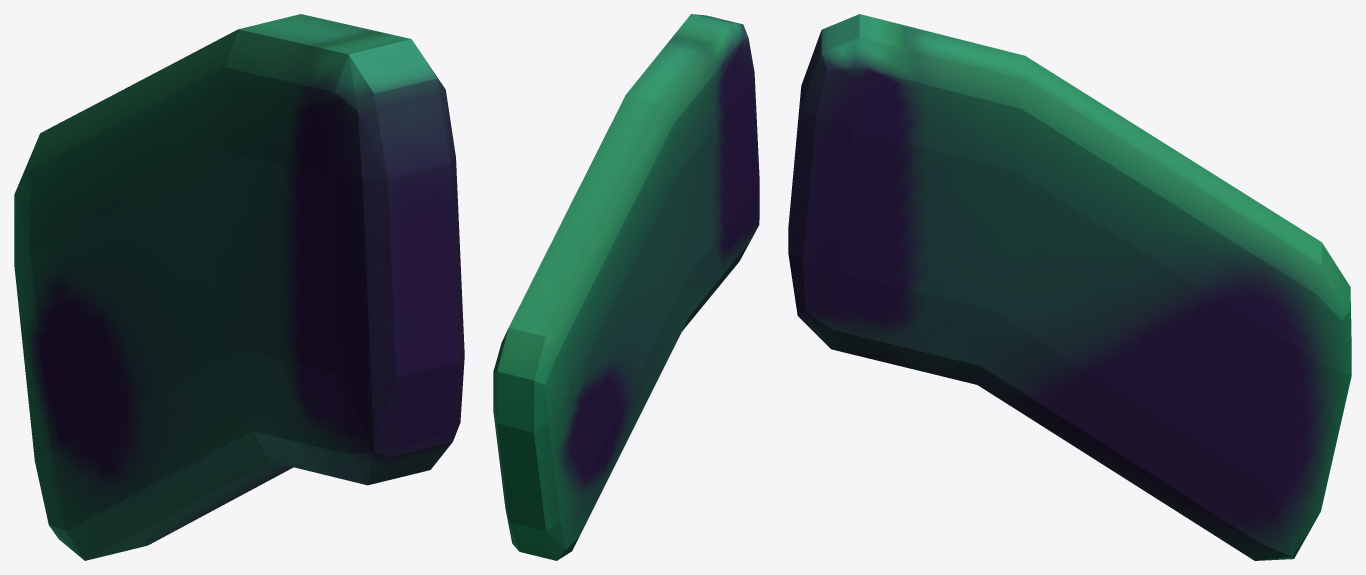
3 views of the same model, side by side, from view 1: azimuth 30°, elevation 25°; view 2: azimuth 150°, elevation 25°; view 3: azimuth 270°, elevation 25° (orthographic). The views are drawn at different scales.
Size of the model in its own units: 0.0242 by 0.1518 by 0.148.
Materials: 1 (1 with a texture image).
